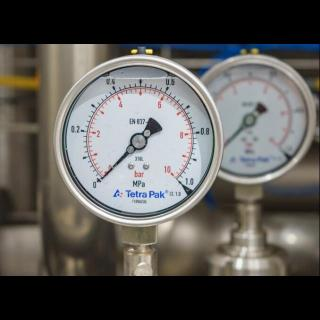gauge: (50, 44, 226, 228), (221, 45, 319, 187), (95, 163, 116, 190), (269, 136, 293, 158), (169, 172, 191, 192), (130, 133, 146, 149), (242, 113, 256, 127), (100, 174, 107, 182)
